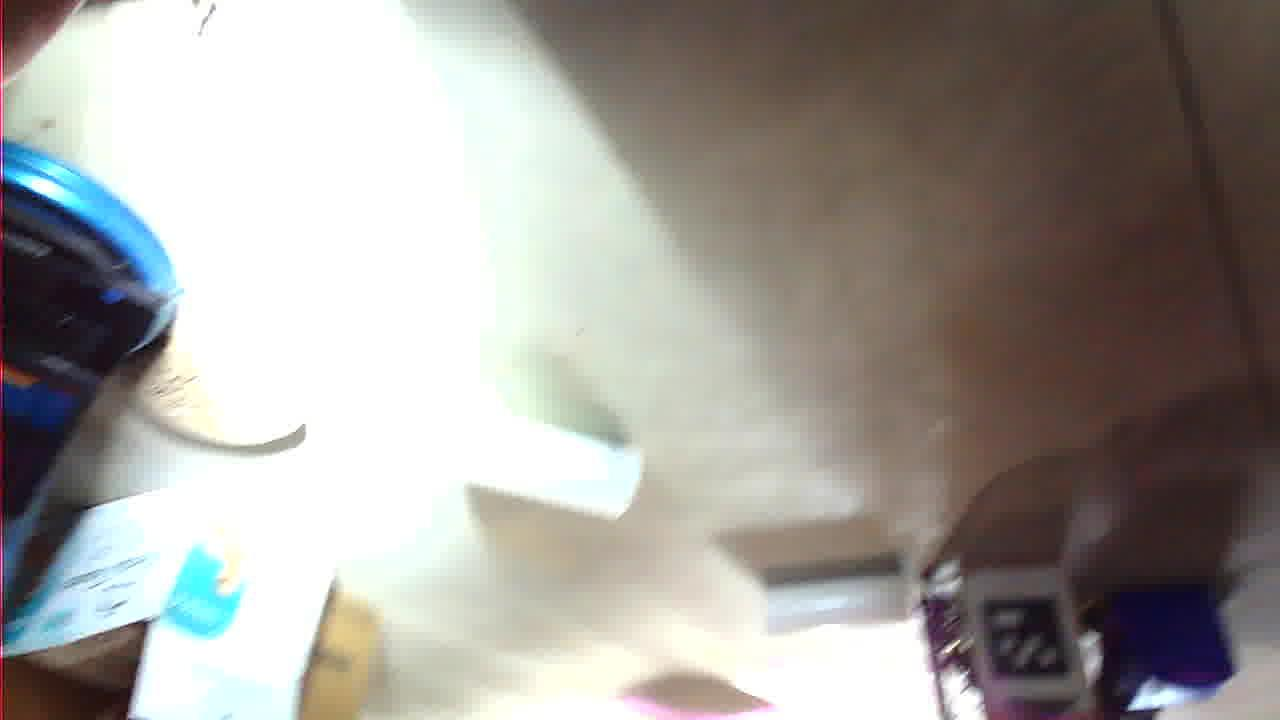coral: (371, 81, 514, 141)
